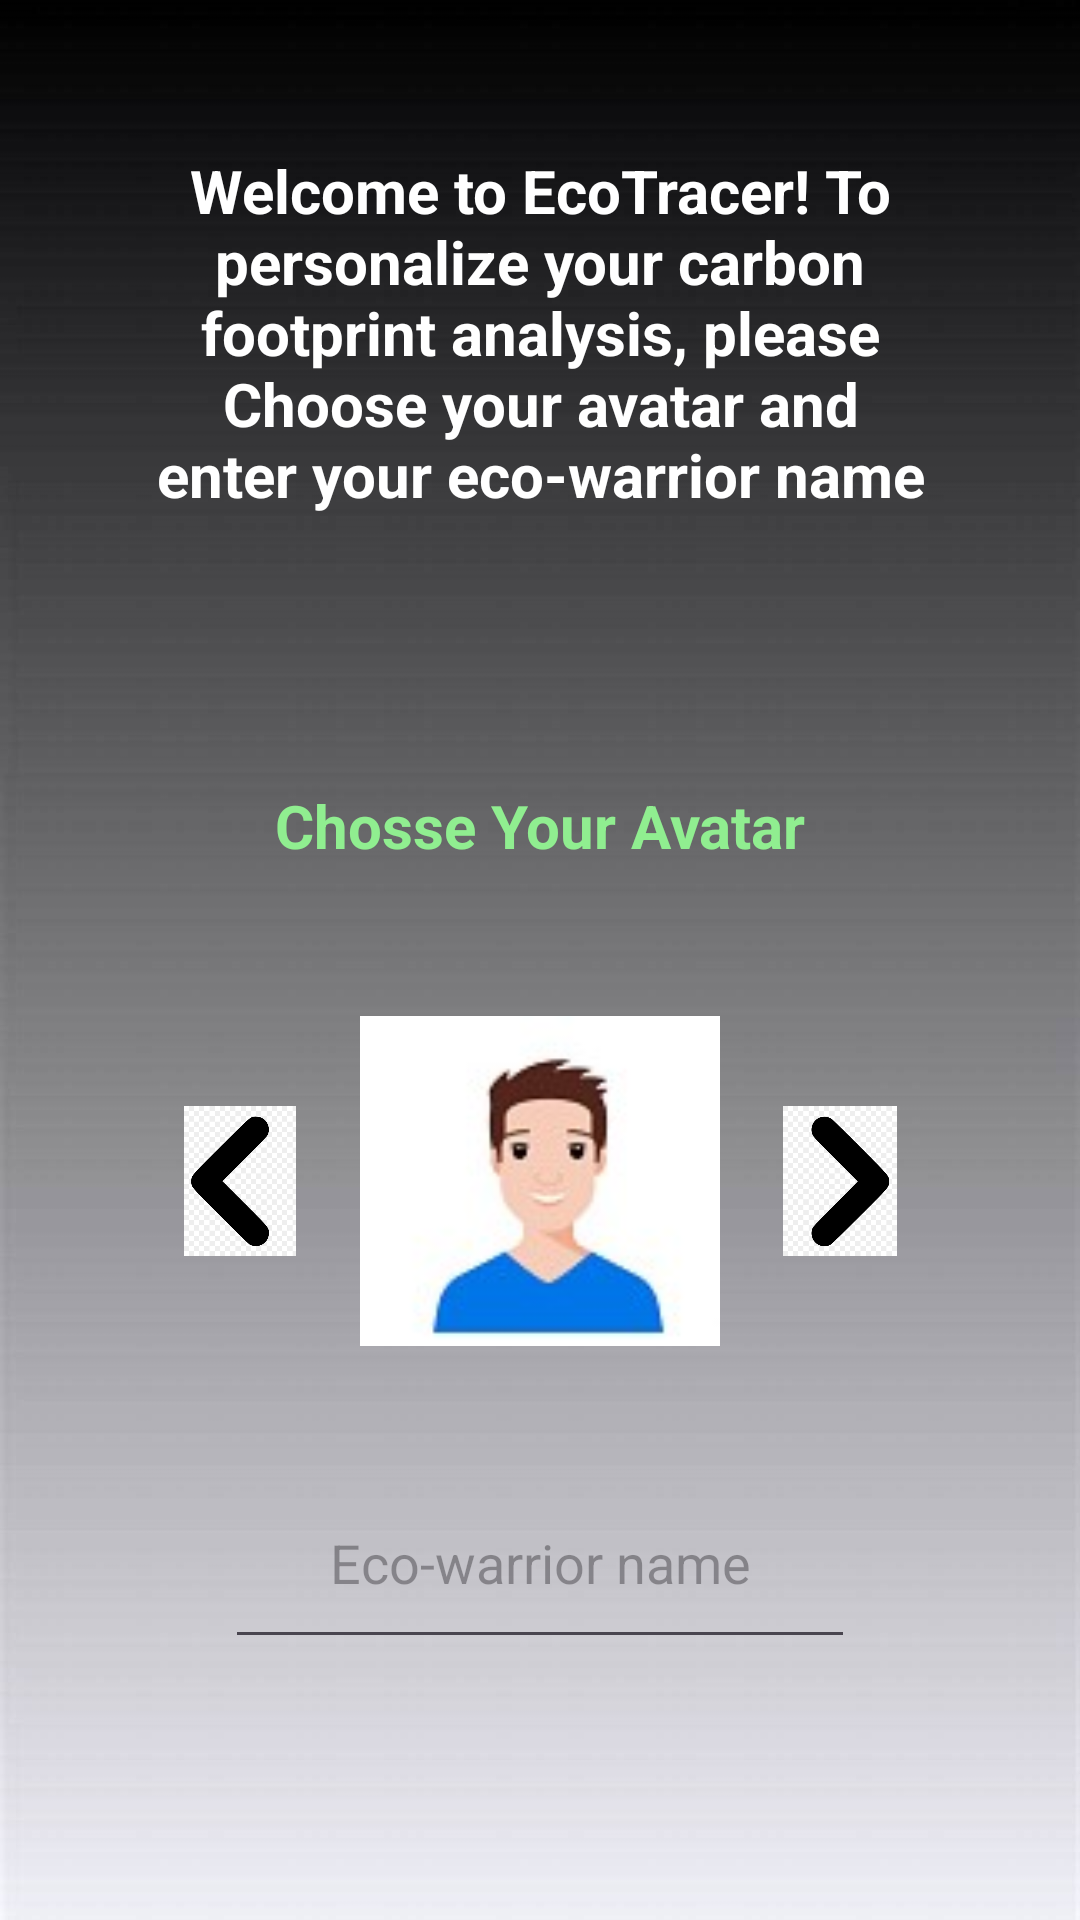

Icon click points for this 1080w x 1920h phone screenshot, format point (x, y):
next: point (840, 1181)
previous: point (240, 1181)
